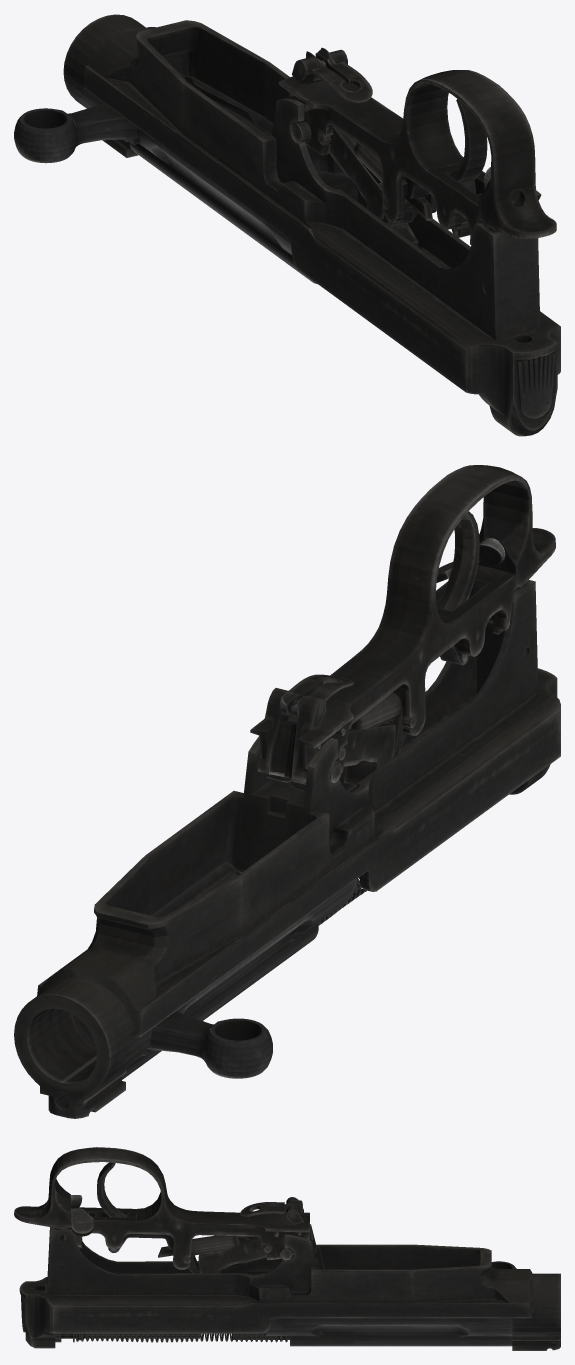
3 views of the same model, one above another, from view 1: azimuth 30°, elevation 25°; view 2: azimuth 150°, elevation 25°; view 3: azimuth 270°, elevation 25° (orthographic). The views are drawn at different scales.
Parts seen in each view (by area): view 1: TW_6410733d5dd49d77bd07847e_PZ_Import; view 2: TW_6410733d5dd49d77bd07847e_PZ_Import; view 3: TW_6410733d5dd49d77bd07847e_PZ_Import.
Part boxes in pixels (x1,y1,x2,y2): TW_6410733d5dd49d77bd07847e_PZ_Import: [14, 14, 560, 436]; TW_6410733d5dd49d77bd07847e_PZ_Import: [14, 465, 560, 1118]; TW_6410733d5dd49d77bd07847e_PZ_Import: [14, 1147, 560, 1350].
Size of the model in its own units: 0.0387 by 0.1573 by 0.0618.
Materials: 1 (1 with a texture image).
